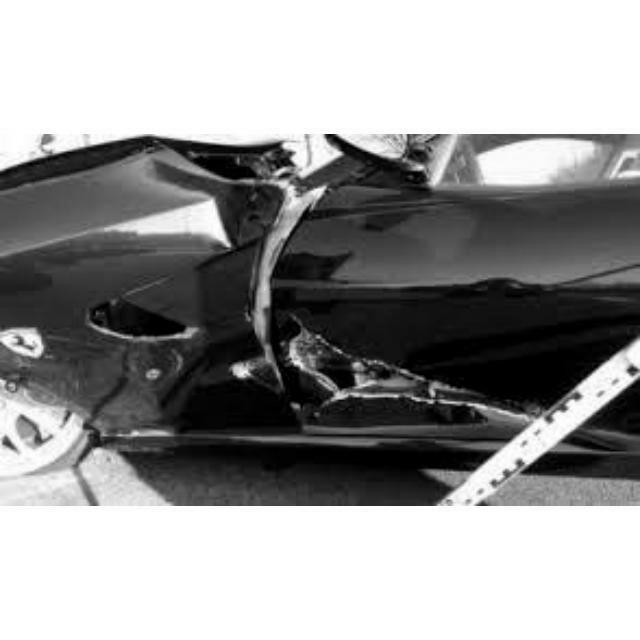doorouter-dent: (266, 215, 557, 471)
fender-dent: (7, 136, 279, 389)
